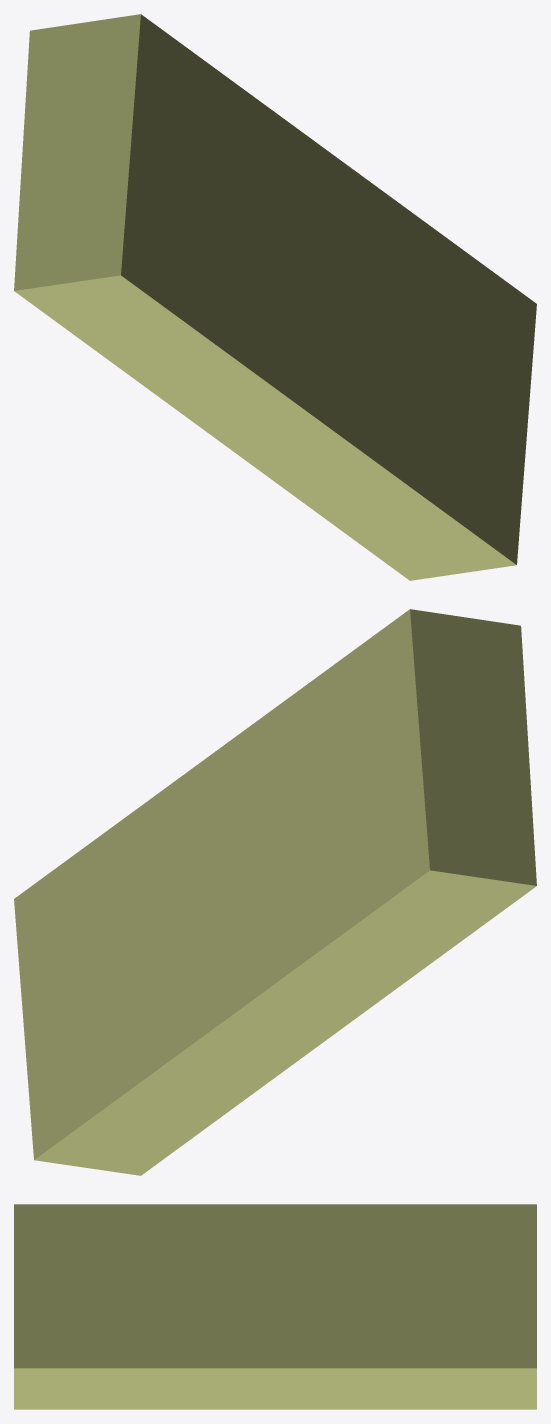
The picture shows the model from 3 angles, top to bottom: view 1: azimuth 30°, elevation 25°; view 2: azimuth 150°, elevation 25°; view 3: azimuth 270°, elevation 25°; orthographic projection. The views are drawn at different scales.
Visible parts, largest first — view 1: 0_1_2_0_3_3_2_0_1_0_0_1_0; view 2: 0_1_2_0_3_3_2_0_1_0_0_1_0; view 3: 0_1_2_0_3_3_2_0_1_0_0_1_0.
Boxes of the visible parts, left/top/right/bottom form: 0_1_2_0_3_3_2_0_1_0_0_1_0: left=14, top=14, right=536, bottom=580; 0_1_2_0_3_3_2_0_1_0_0_1_0: left=14, top=609, right=536, bottom=1175; 0_1_2_0_3_3_2_0_1_0_0_1_0: left=14, top=1204, right=536, bottom=1409.
Bounding box in the file's own units: 1.11 × 2.23 × 6.
